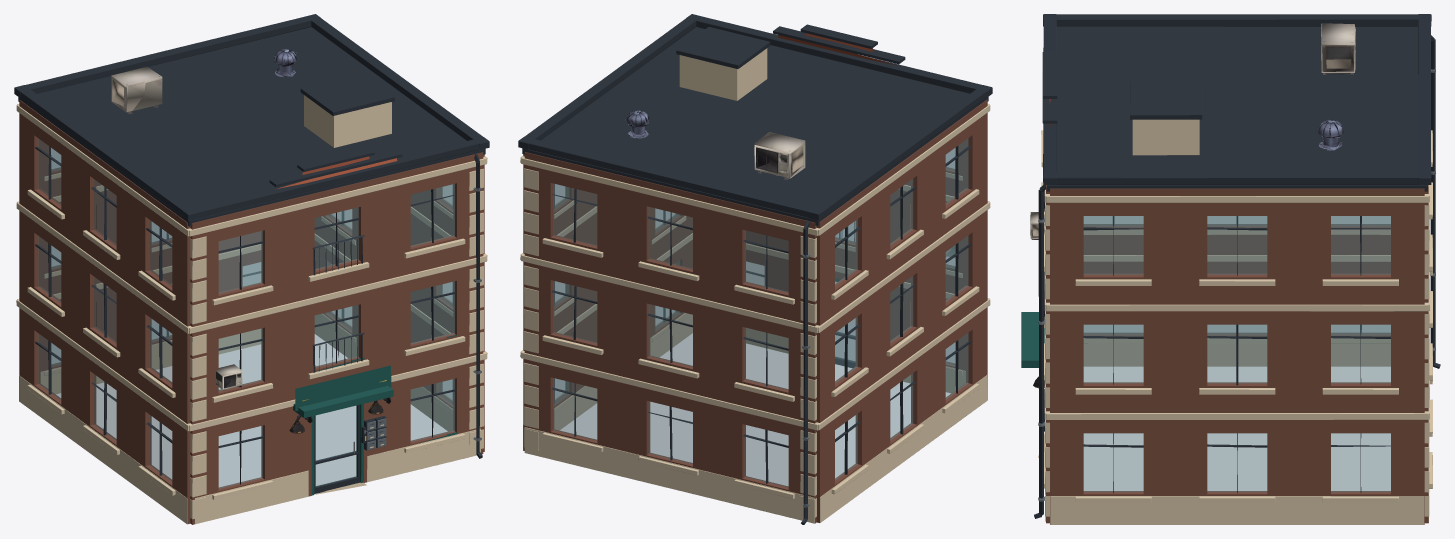
The model's file is tenement-lod.glb.
The picture shows the model from 3 angles, left to right: view 1: azimuth 30°, elevation 25°; view 2: azimuth 150°, elevation 25°; view 3: azimuth 270°, elevation 25°; orthographic projection. The views are drawn at different scales.
Visible parts, largest first — view 1: shell-apt-grout--1, roof-apt-navy--1, shell-apt-cream--1, shell-apt-glass--1, shell-apt-navy--1, shell-apt-teal--1, door glass, roof-apt-cream--1, shell-meshy-roof-ac--1, roof-apt-brick--1, shell-apt-metal--1, shell-meshy-roof-ac.001--1; view 2: shell-apt-grout--1, roof-apt-navy--1, shell-apt-cream--1, shell-apt-glass--1, shell-apt-navy--1, roof-apt-cream--1, shell-meshy-roof-ac--1, roof-apt-brick--1; view 3: shell-apt-grout--1, roof-apt-navy--1, shell-apt-cream--1, shell-apt-glass--1, shell-apt-navy--1, roof-apt-cream--1, shell-meshy-roof-ac--1, shell-apt-teal--1, shell-meshy-roof-vent--1.
Part boxes in pixels (x1,y1,x2,y2): shell-apt-grout--1: (19, 100, 484, 524); roof-apt-navy--1: (14, 14, 489, 226); shell-apt-cream--1: (16, 104, 487, 524); shell-apt-glass--1: (38, 138, 454, 488); shell-apt-navy--1: (35, 146, 482, 484); shell-apt-teal--1: (218, 335, 456, 495); door glass: (315, 405, 356, 486); roof-apt-cream--1: (304, 95, 391, 147); shell-meshy-roof-ac--1: (111, 66, 162, 114); roof-apt-brick--1: (277, 156, 397, 188); shell-apt-metal--1: (364, 187, 481, 450); shell-meshy-roof-ac.001--1: (215, 364, 242, 390); shell-apt-grout--1: (523, 99, 987, 523); roof-apt-navy--1: (518, 14, 992, 225); shell-apt-cream--1: (520, 103, 990, 523); shell-apt-glass--1: (553, 138, 968, 487); shell-apt-navy--1: (551, 146, 971, 524); roof-apt-cream--1: (679, 48, 767, 100); shell-meshy-roof-ac--1: (754, 132, 805, 180); roof-apt-brick--1: (778, 33, 897, 65); shell-apt-grout--1: (1046, 185, 1428, 524); roof-apt-navy--1: (1042, 14, 1431, 191); shell-apt-cream--1: (1041, 130, 1432, 524); shell-apt-glass--1: (1083, 216, 1390, 492); shell-apt-navy--1: (1034, 35, 1440, 518); roof-apt-cream--1: (1132, 119, 1199, 155); shell-meshy-roof-ac--1: (1321, 23, 1355, 74); shell-apt-teal--1: (1021, 312, 1044, 367); shell-meshy-roof-vent--1: (1318, 119, 1343, 150).
Bounding box in the file's own units: 10.45 × 11.21 × 11.2.
Materials: 14 (4 with a texture image).
